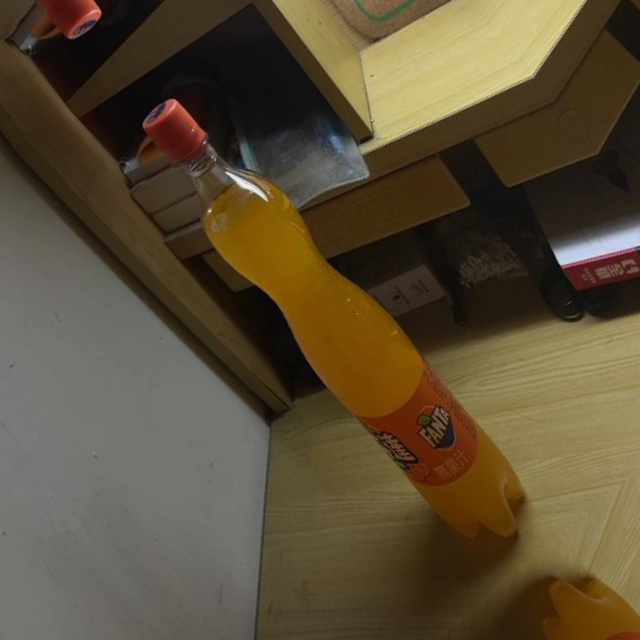Fanta: (120, 76, 546, 560)
